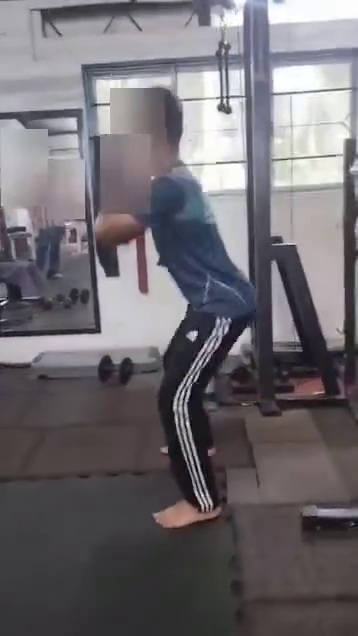squat_correct: (78, 163, 251, 549)
